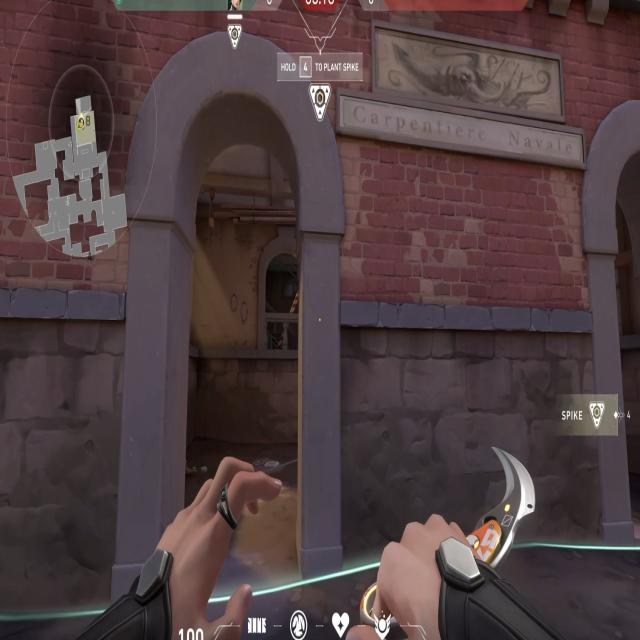B_Boathouse: (115, 16, 352, 589), (581, 70, 640, 564)
